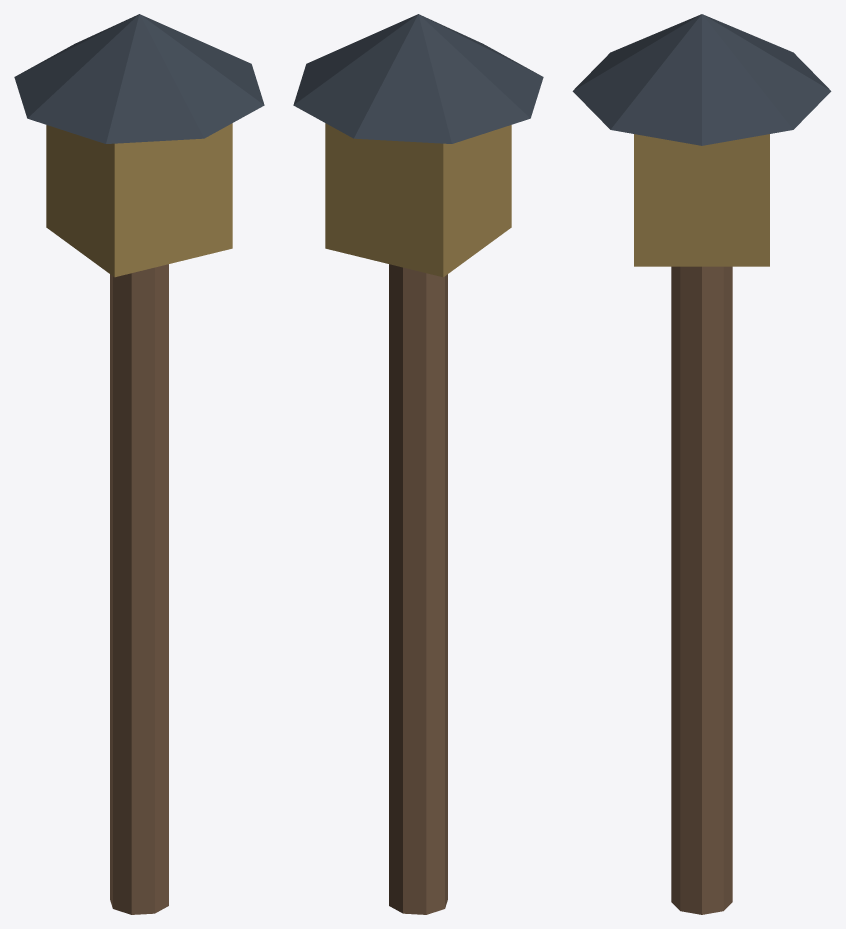
File: lamp.glb
3 views of the same model, side by side, from view 1: azimuth 30°, elevation 25°; view 2: azimuth 150°, elevation 25°; view 3: azimuth 270°, elevation 25° (orthographic).
Parts seen in each view (by area): view 1: lamp; view 2: lamp; view 3: lamp.
Part boxes in pixels (x1=…): lamp: x1=14, y1=14, x2=264, y2=914; lamp: x1=293, y1=14, x2=543, y2=914; lamp: x1=572, y1=14, x2=831, y2=914.
Bounding box in the file's own units: 0.76 × 2.88 × 0.76.
